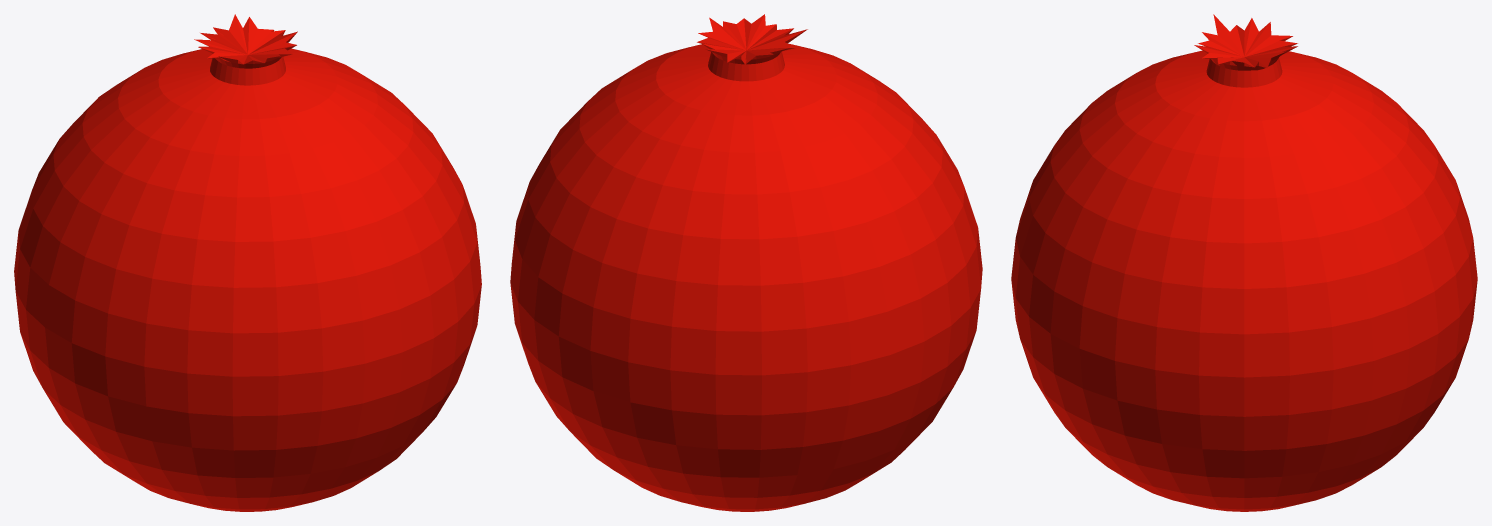
The model's file is pom.fbx.
The picture shows the model from 3 angles, left to right: view 1: azimuth 30°, elevation 25°; view 2: azimuth 150°, elevation 25°; view 3: azimuth 270°, elevation 25°; orthographic projection.
Visible parts, largest first — view 1: Sphere; view 2: Sphere; view 3: Sphere.
Part boxes in pixels (x1,y1,x2,y2): Sphere: (14,14,481,511); Sphere: (510,14,982,511); Sphere: (1011,14,1477,511).
Bounding box in the file's own units: 200 × 215 × 200.
